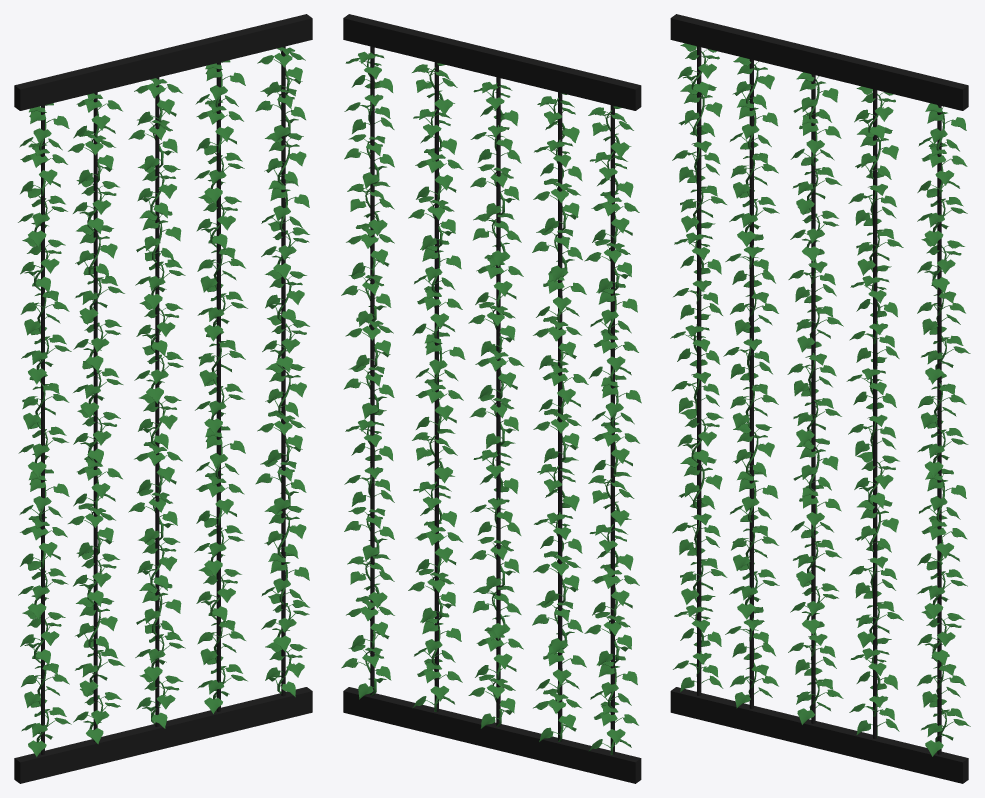
Rendered from LowVineWall.fbx.
The picture shows the model from 3 angles, left to right: view 1: azimuth 30°, elevation 25°; view 2: azimuth 150°, elevation 25°; view 3: azimuth 330°, elevation 25°; orthographic projection.
Visible parts, largest first — view 1: polySurface1215; view 2: polySurface1215; view 3: polySurface1215.
Part boxes in pixels (bbox=[...]): polySurface1215: bbox=[14, 14, 312, 783]; polySurface1215: bbox=[341, 14, 641, 783]; polySurface1215: bbox=[670, 14, 970, 783].
Size of the model in its own units: 76.13 by 173 by 13.11.
